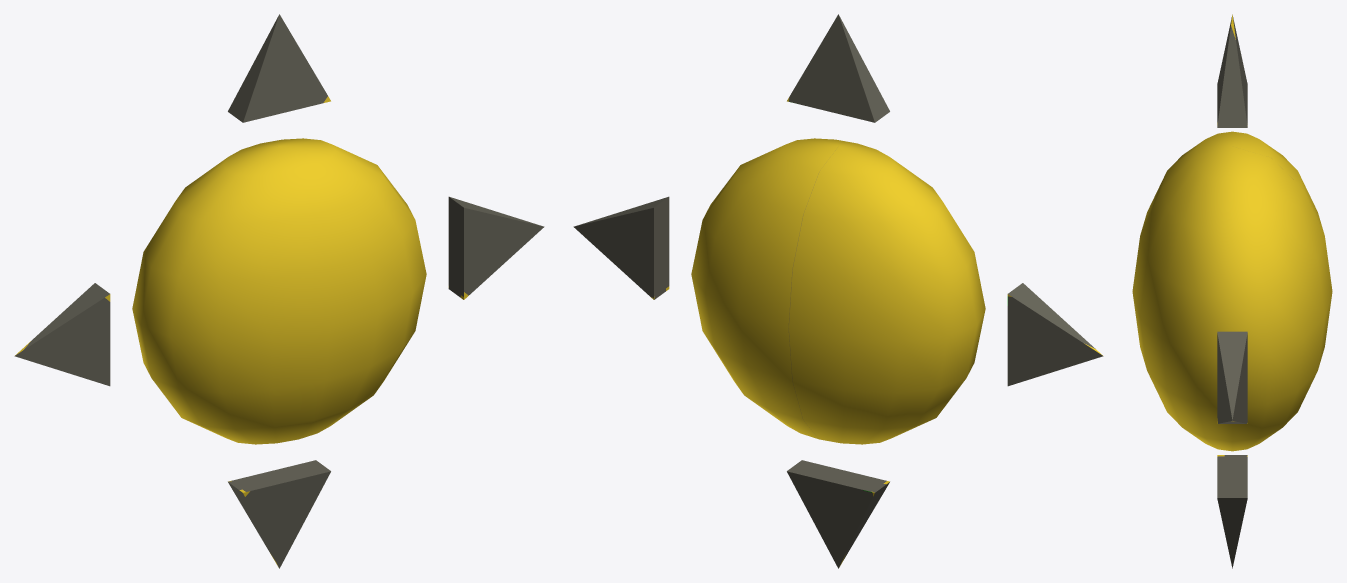
File: godSign.fbx
The picture shows the model from 3 angles, left to right: view 1: azimuth 30°, elevation 25°; view 2: azimuth 150°, elevation 25°; view 3: azimuth 270°, elevation 25°; orthographic projection.
Parts seen in each view (by area): view 1: Sphere004; view 2: Sphere004; view 3: Sphere004.
Boxes of the visible parts, left/top/right/bottom form: Sphere004: left=14, top=14, right=544, bottom=568; Sphere004: left=573, top=14, right=1103, bottom=568; Sphere004: left=1132, top=14, right=1332, bottom=568.
Bounding box in the file's own units: 60 × 60 × 19.6.
